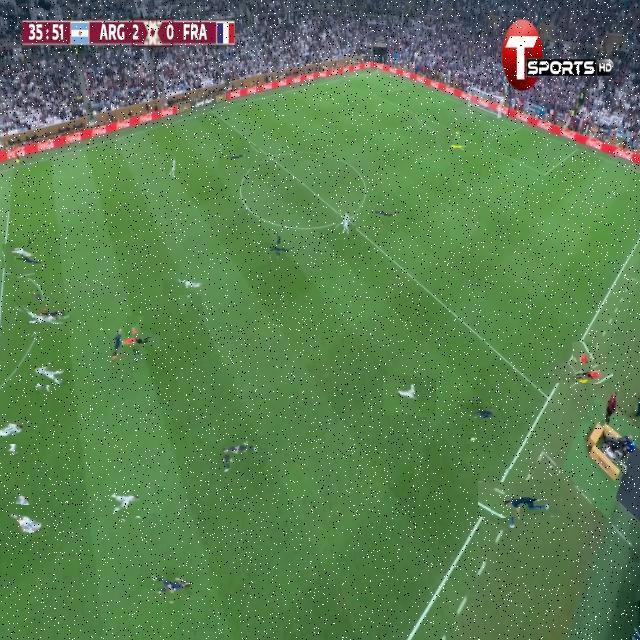ball: (467, 431, 484, 448)
goalkeeper: (489, 468, 550, 530), (444, 125, 477, 159)
player: (146, 551, 202, 609), (101, 473, 156, 530), (205, 420, 255, 471), (386, 371, 435, 420), (18, 293, 65, 340), (0, 495, 41, 544), (171, 264, 213, 306), (27, 355, 65, 394), (0, 410, 32, 452), (334, 196, 358, 248), (460, 395, 495, 430), (6, 239, 40, 274), (367, 196, 401, 230), (223, 141, 255, 173), (264, 235, 290, 261), (111, 324, 123, 377), (166, 154, 178, 185)
referee: (561, 352, 603, 394), (117, 323, 154, 359)
